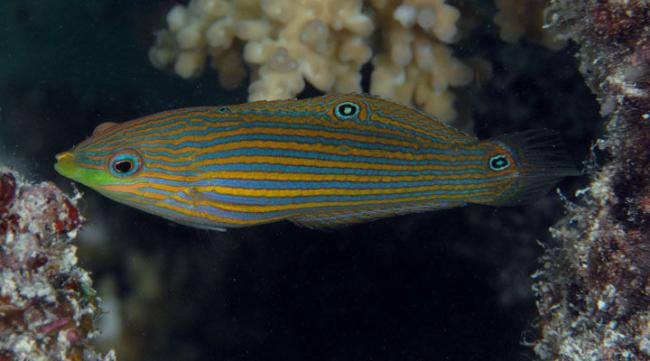fish: (53, 90, 563, 233)
